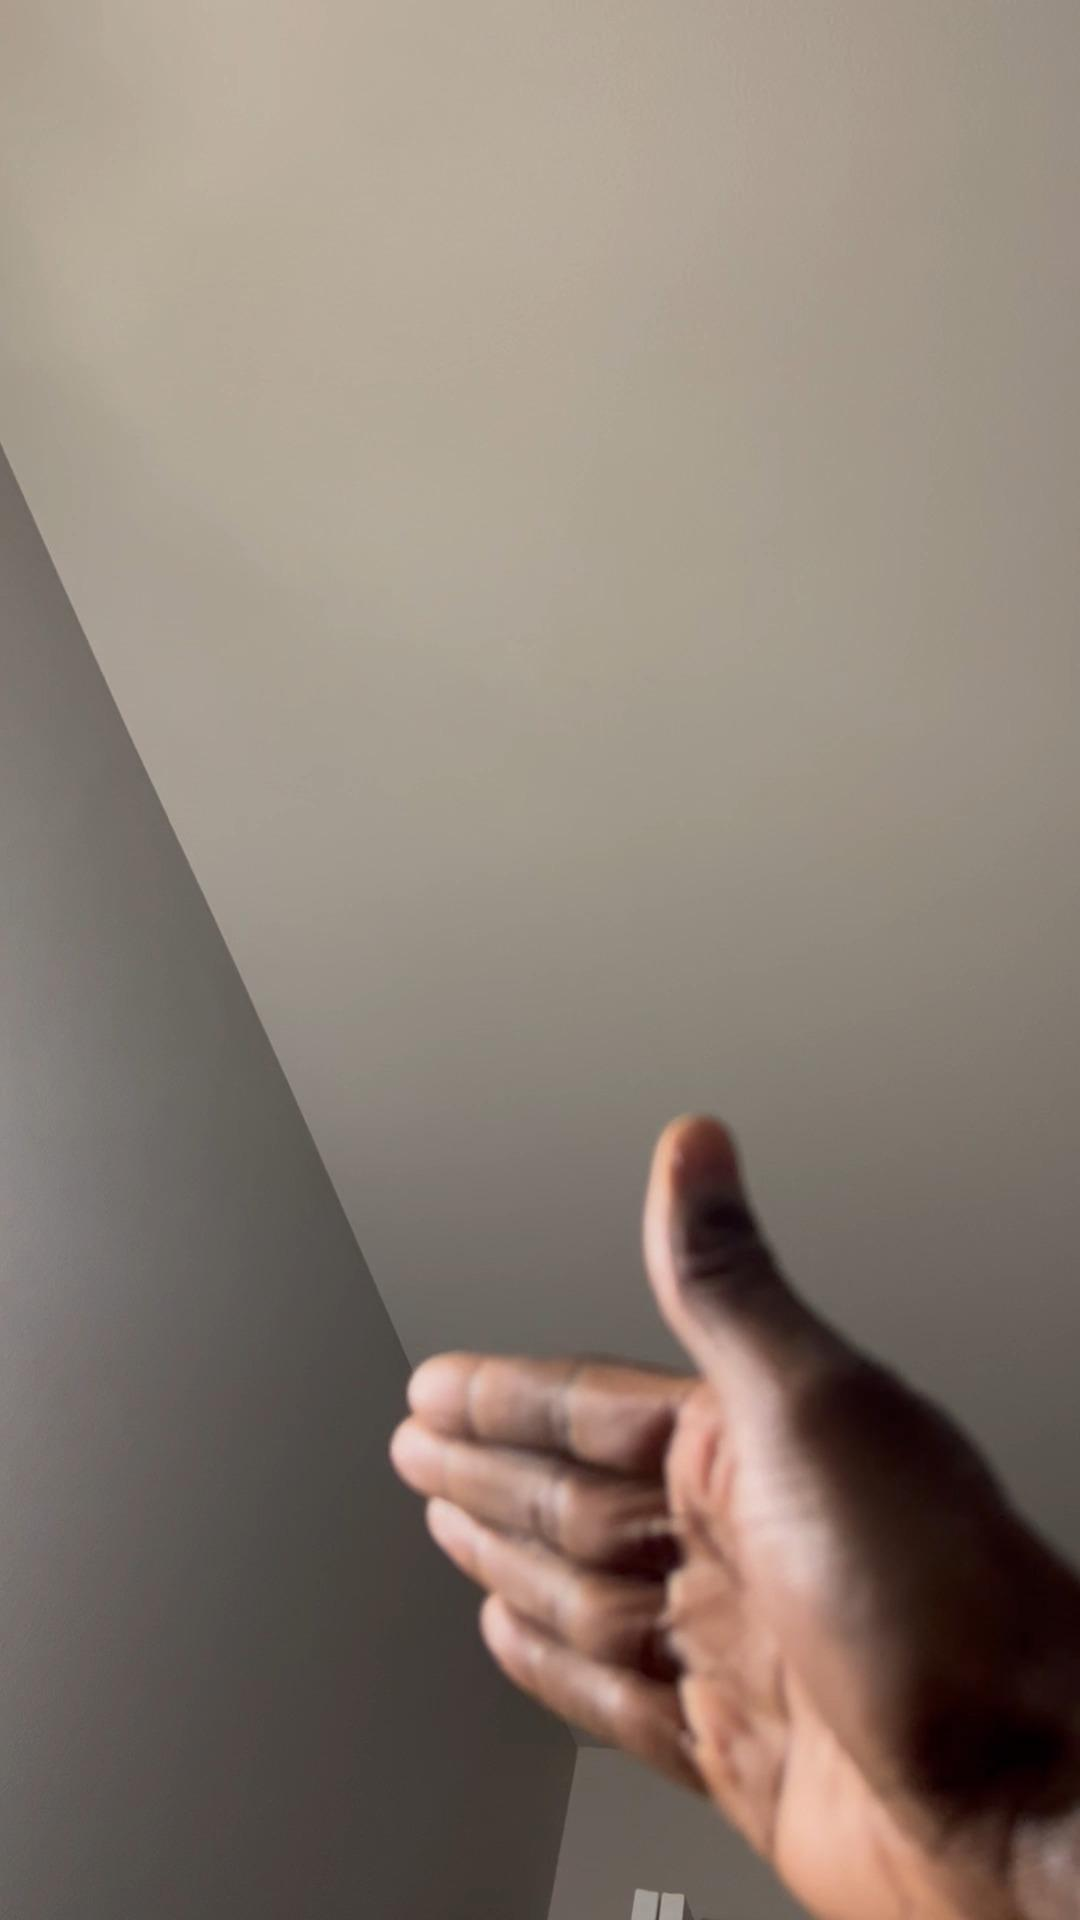Paper: (393, 1110, 1080, 1920)
